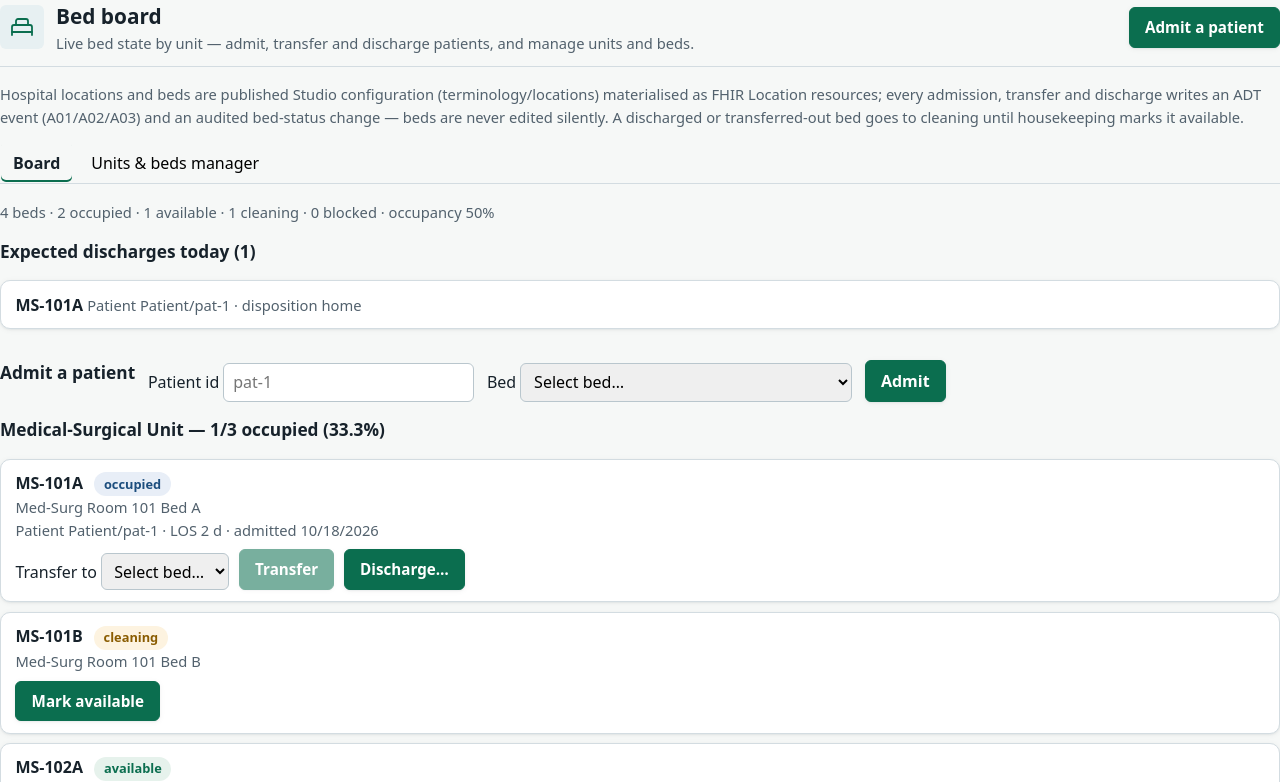
Test: BedBoardPage › surfaces an occupied-bed conflict (409) as an inline error
Check: the heading "Medical-Surgical Unit — 1/3 occupied (33.3%)" is shown, box [0,418,385,441]
Type "pat-9" into the field named "Admit patient id" at (349, 382), box [224,363,474,402]
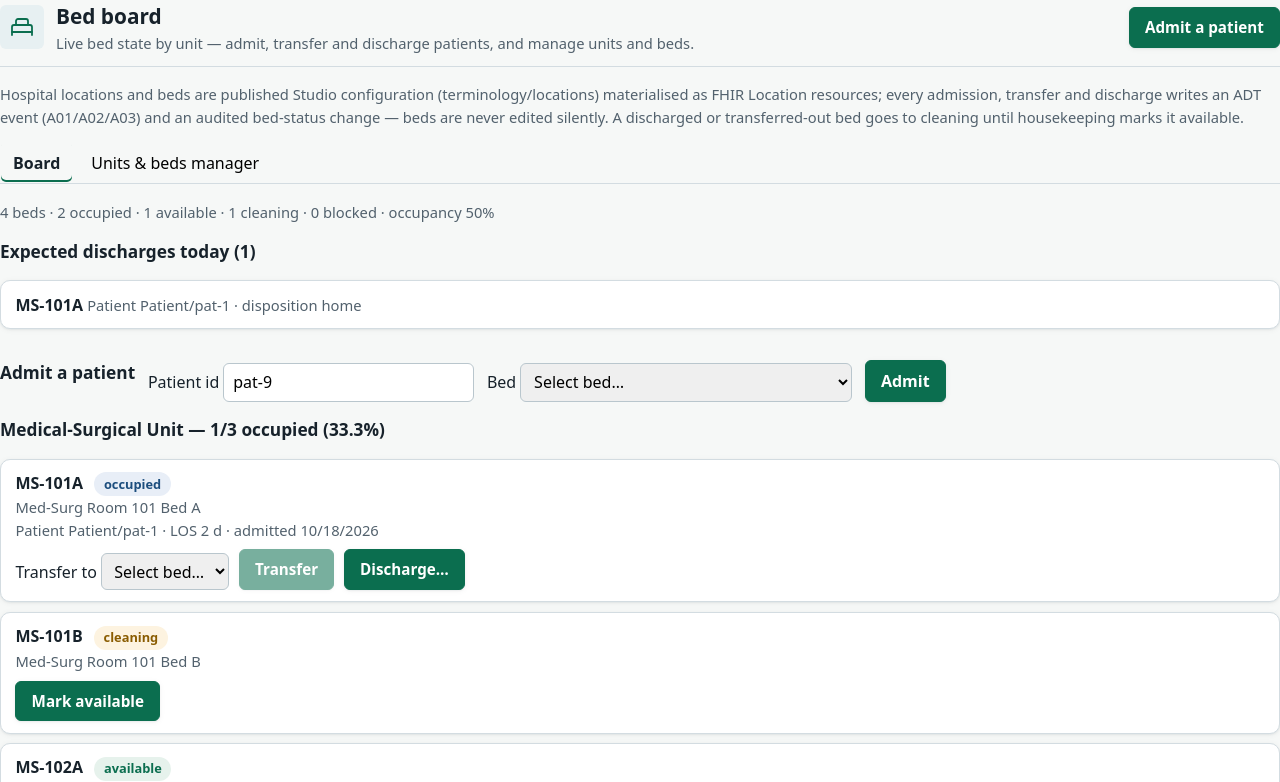
Select "MS-102A — Med-Surg Room 102 Bed A" in the dropdown named "Admit bed" at (686, 382), box [520,363,852,402]
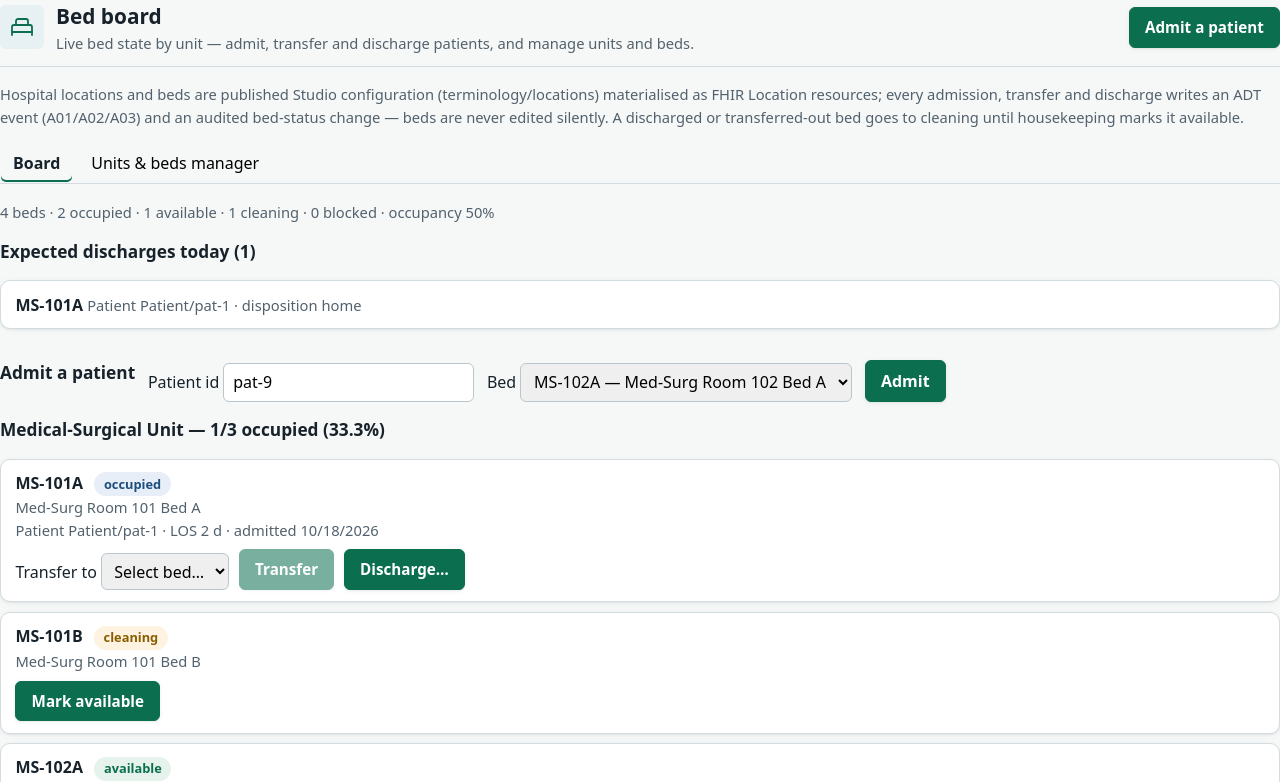
Click the button "Admit" at (905, 381), box [865,360,946,402]
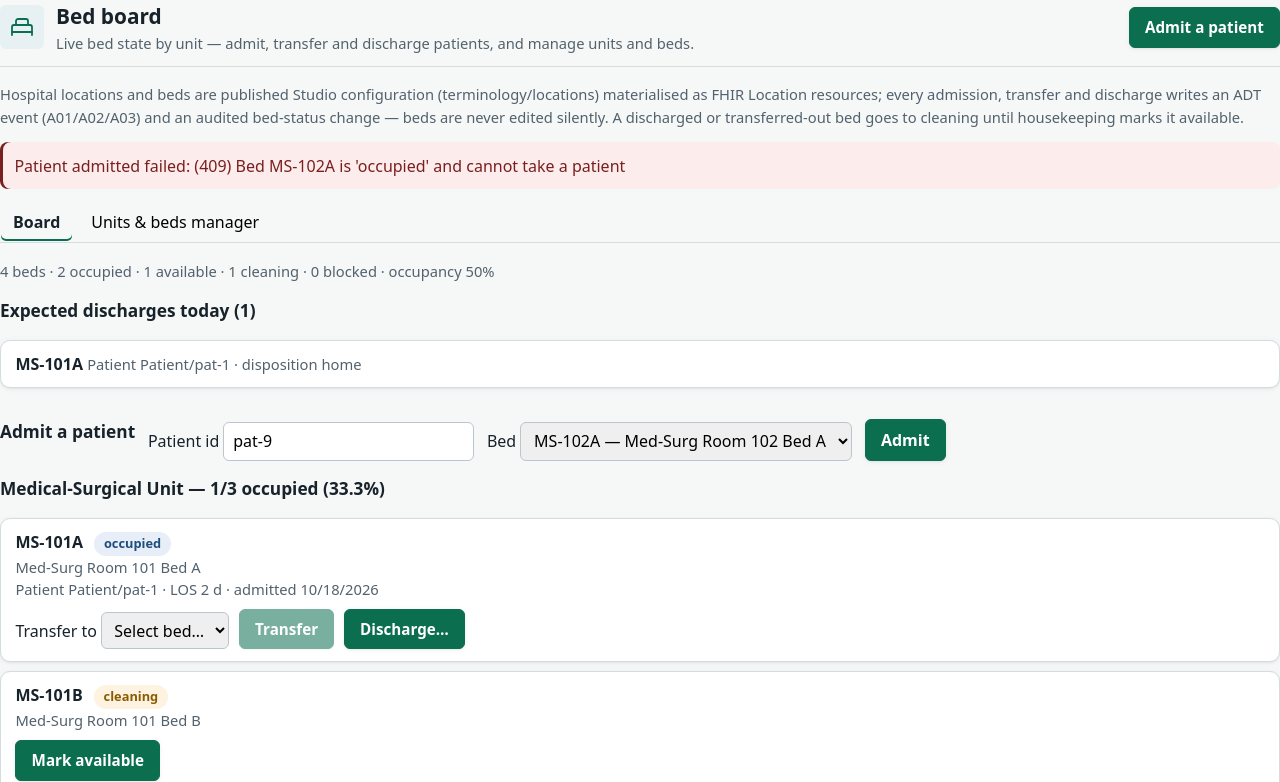
Check: the text "cannot take a patient" is shown, box [14,154,625,176]
